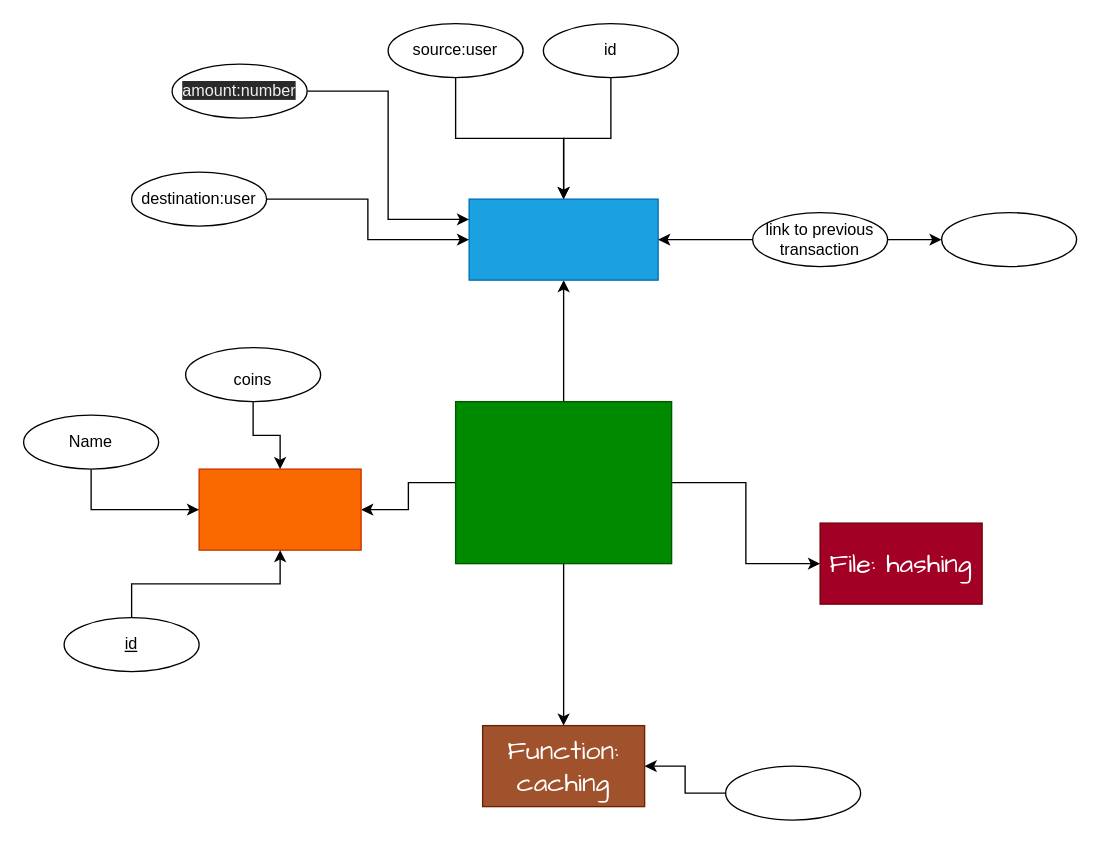
The diagram is 1100 pixels wide and 844 high, and some of its shapes have lost their labels. Here are the shapes that lost their labels. From the top down, the centre of each, then its label:
At point (563, 239): "Class: transactions".
At point (1008, 239): "linked list".
At point (563, 482): "PROJECT: Cryhastra".
At point (279, 509): "Class: users".
At point (792, 792): "store information in .txt, .bin".
